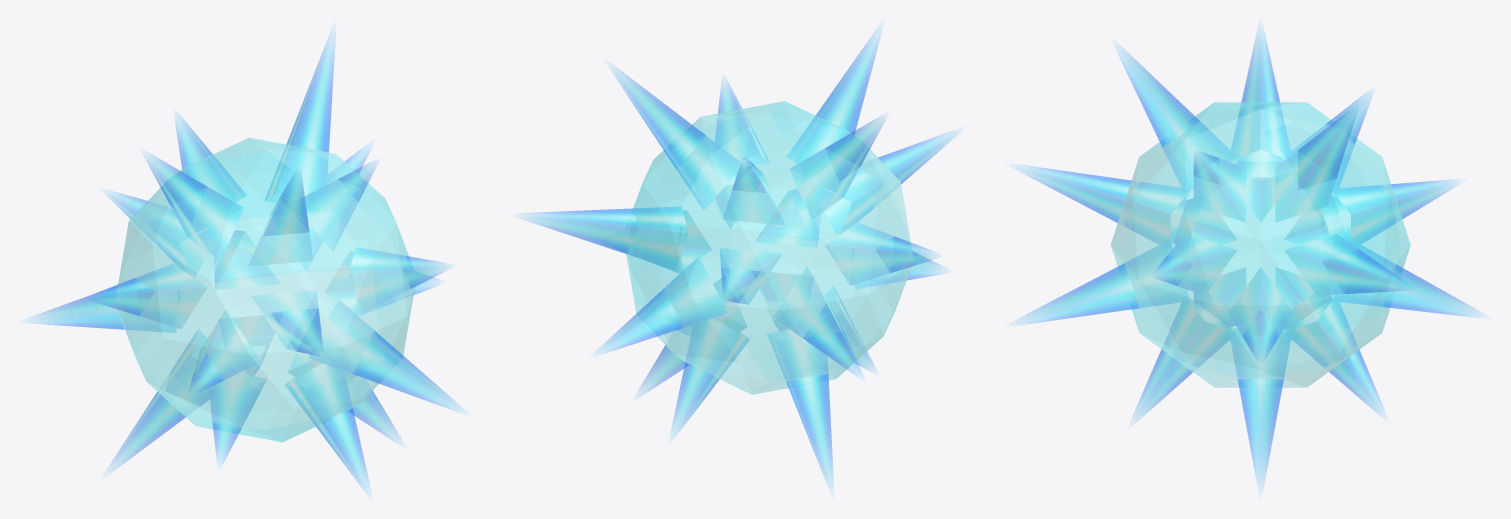
The model's file is impact.glb.
3 views of the same model, side by side, from view 1: azimuth 30°, elevation 25°; view 2: azimuth 150°, elevation 25°; view 3: azimuth 270°, elevation 25° (orthographic). The views are drawn at different scales.
Parts seen in each view (by area): view 1: impact; view 2: impact; view 3: impact.
Part boxes in pixels (x1,y1,x2,y2): impact: (29,31,463,492); impact: (521,28,958,488); impact: (1015,27,1482,488).
Bounding box in the file's own units: 22.6 × 23.43 × 26.5.
2 materials, 2 textured.
